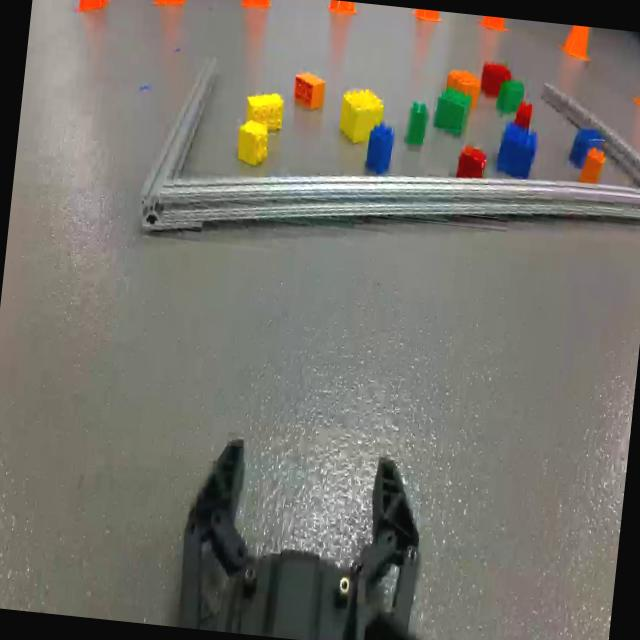block: (337, 94, 384, 142), (339, 88, 387, 125), (236, 120, 270, 166), (246, 88, 284, 124)
blue: (495, 122, 539, 176), (366, 124, 392, 174), (574, 124, 606, 150)
cone: (556, 24, 594, 61), (469, 14, 514, 36), (630, 31, 640, 118), (149, 0, 194, 15), (322, 0, 363, 16), (74, 0, 116, 12), (413, 8, 440, 25), (236, 0, 275, 9)
green: (431, 86, 472, 139), (405, 99, 429, 147), (492, 80, 523, 110)
metal barrier: (139, 56, 640, 232)
orange: (291, 70, 327, 111), (584, 144, 608, 182), (448, 68, 482, 92)
red goal: (478, 62, 512, 98), (458, 144, 489, 178), (513, 100, 531, 123)
